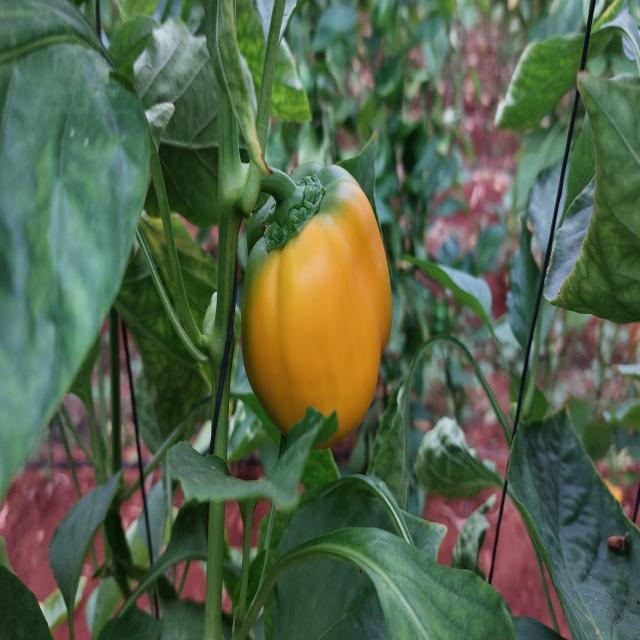Yellow-Ready-to-Harvest: (242, 175, 396, 450)
